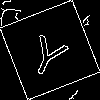Y: (25, 25, 74, 81)
